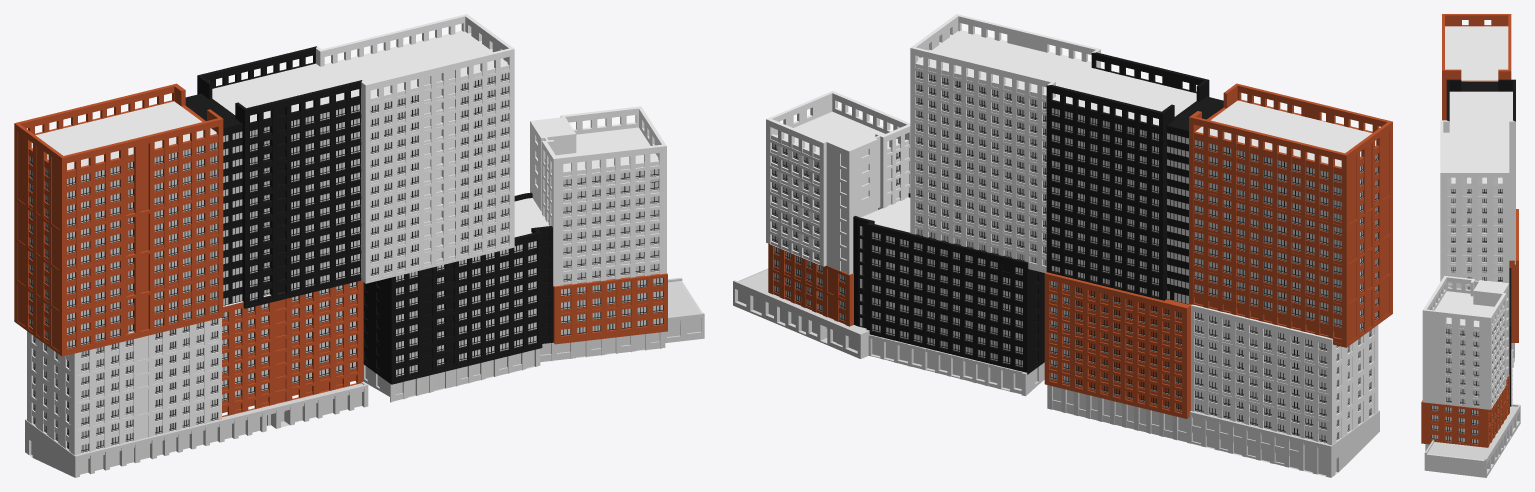
File: novator_5.1.glb
3 renders of one model, left to right at view 1: azimuth 30°, elevation 25°; view 2: azimuth 150°, elevation 25°; view 3: azimuth 270°, elevation 25°, orthographic. The views are drawn at different scales.
Parts seen in each view (by area): view 1: Plane.001, Plane.007, Plane.002, Plane.005, Plane.003, Cube.002, Plane.008, Plane.006, Plane.004, Plane, Plane.009; view 2: Plane.001, Plane.007, Plane.002, Plane.005, Plane.003, Cube.002, Plane.006, Plane.004, Plane, Plane.009, Plane.008; view 3: Plane.001, Plane.005, Plane.006, Plane.004, Plane.008, Plane.002, Plane.007, Plane.003, Plane.
Part boxes in pixels (x1=…): Plane.001: x1=14, y1=14, x2=514, y2=356; Plane.007: x1=29, y1=73, x2=663, y2=452; Plane.002: x1=27, y1=280, x2=363, y2=455; Plane.005: x1=530, y1=106, x2=666, y2=286; Plane.003: x1=363, y1=192, x2=553, y2=384; Cube.002: x1=25, y1=381, x2=368, y2=477; Plane.008: x1=33, y1=161, x2=658, y2=449; Plane.006: x1=363, y1=277, x2=704, y2=402; Plane.004: x1=553, y1=273, x2=667, y2=344; Plane: x1=185, y1=93, x2=242, y2=305; Plane.009: x1=223, y1=131, x2=242, y2=305; Plane.001: x1=910, y1=14, x2=1392, y2=347; Plane.007: x1=774, y1=71, x2=1378, y2=442; Plane.002: x1=1044, y1=272, x2=1378, y2=445; Plane.005: x1=766, y1=91, x2=910, y2=274; Plane.003: x1=853, y1=193, x2=1044, y2=374; Cube.002: x1=1047, y1=385, x2=1379, y2=477; Plane.006: x1=733, y1=268, x2=1044, y2=396; Plane.004: x1=768, y1=244, x2=853, y2=326; Plane: x1=1167, y1=96, x2=1223, y2=300; Plane.009: x1=916, y1=133, x2=1188, y2=304; Plane.008: x1=772, y1=143, x2=1370, y2=439; Plane.001: x1=1440, y1=14, x2=1515, y2=289; Plane.005: x1=1422, y1=275, x2=1509, y2=409; Plane.006: x1=1424, y1=349, x2=1520, y2=477; Plane.004: x1=1421, y1=375, x2=1509, y2=447; Plane.008: x1=1446, y1=189, x2=1503, y2=405; Plane.002: x1=1509, y1=209, x2=1518, y2=342; Plane.007: x1=1431, y1=381, x2=1507, y2=443; Plane.003: x1=1509, y1=268, x2=1511, y2=406; Plane: x1=1461, y1=81, x2=1498, y2=90.
Size of the model in its own units: 151 by 73.92 by 27.67.
